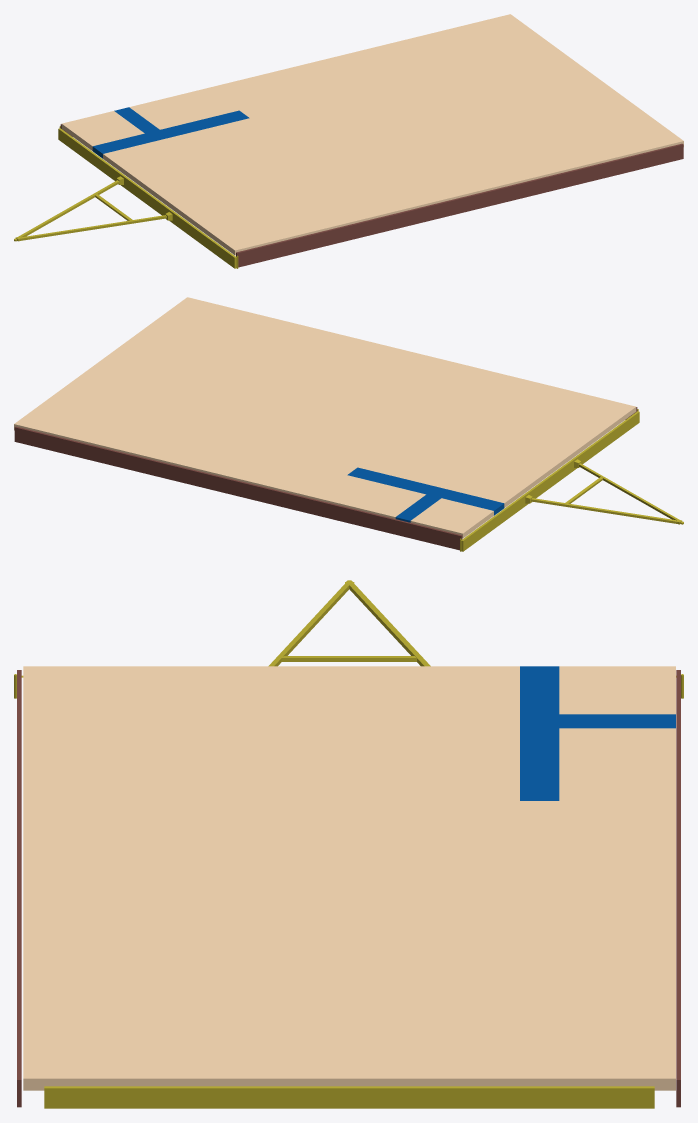
The model's file is edap-helicopter-dolly_LOD03.gltf.
3 renders of one model, top to bottom at view 1: azimuth 30°, elevation 25°; view 2: azimuth 150°, elevation 25°; view 3: azimuth 270°, elevation 25°, orthographic. The views are drawn at different scales.
Parts seen in each view (by area): view 1: platform.003, side frame.006, front frame.003, shackle.003; view 2: platform.003, side frame.007, front frame.003, shackle.003; view 3: platform.003, rear frame.003, shackle.003, side frame.006, side frame.007.
Boxes of the visible parts, box(x1,y1,x2,y2) form: platform.003: box(61, 14, 683, 255); side frame.006: box(236, 143, 683, 267); front frame.003: box(58, 126, 238, 268); shackle.003: box(14, 180, 166, 241); platform.003: box(14, 297, 636, 538); side frame.007: box(14, 426, 462, 550); front frame.003: box(460, 409, 639, 551); shackle.003: box(531, 463, 683, 524); platform.003: box(23, 666, 675, 1090); rear frame.003: box(44, 1086, 654, 1108); shackle.003: box(268, 580, 430, 666); side frame.006: box(17, 670, 21, 1107); side frame.007: box(676, 670, 680, 1107).
Bounding box in the file's own units: 4.76 × 0.1667 × 2.51.
